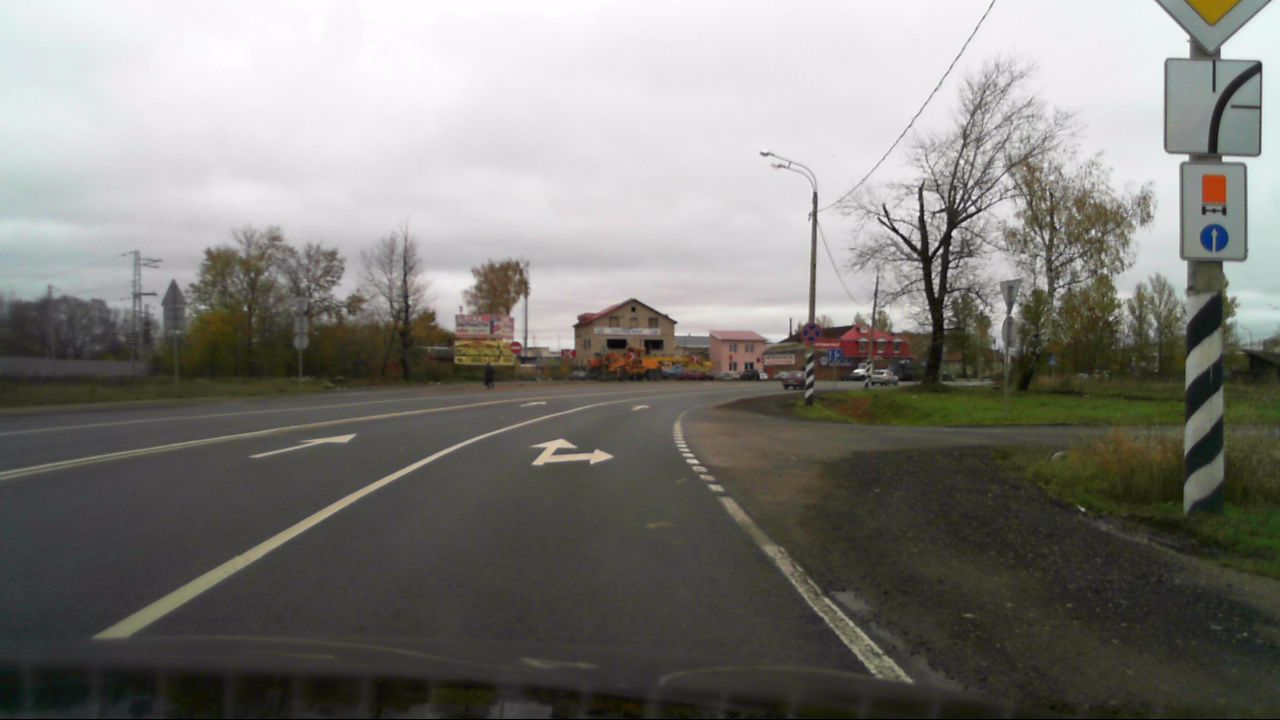No Parking: (801, 322, 822, 344)
